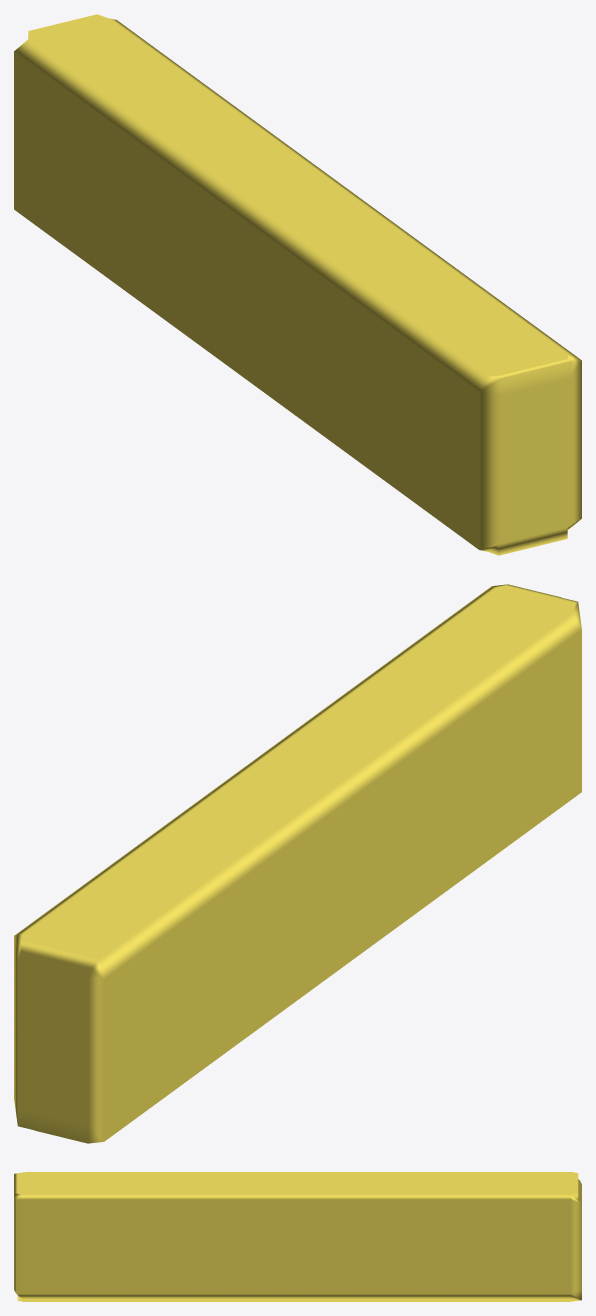
The model's file is plate_rear.glb.
3 renders of one model, top to bottom at view 1: azimuth 30°, elevation 25°; view 2: azimuth 150°, elevation 25°; view 3: azimuth 270°, elevation 25°, orthographic. The views are drawn at different scales.
Parts seen in each view (by area): view 1: plate_rear; view 2: plate_rear; view 3: plate_rear.
Part boxes in pixels (x1,y1,x2,y2): plate_rear: [14, 14, 581, 555]; plate_rear: [14, 584, 581, 1143]; plate_rear: [14, 1172, 581, 1301].
Size of the model in its own units: 0.6 by 1.1 by 5.2.
